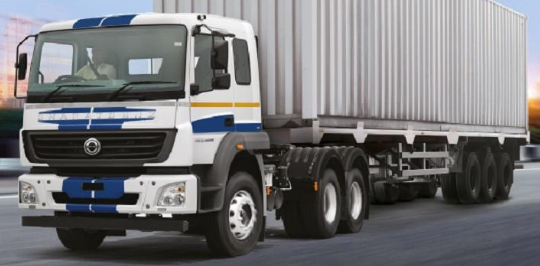truck: (12, 1, 530, 260)
